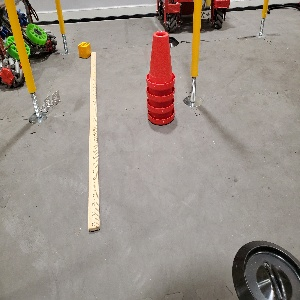Red_4: (145, 32, 174, 123)
